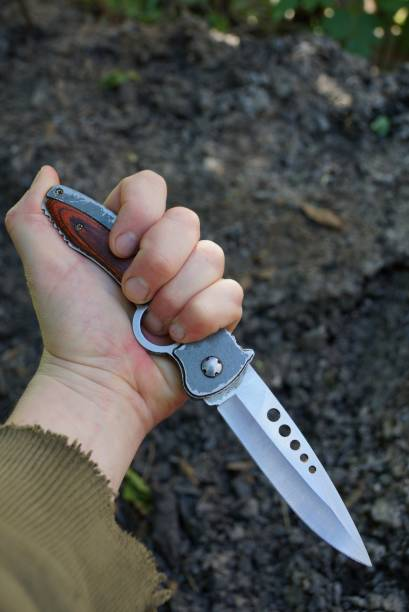knife: (38, 181, 376, 572)
